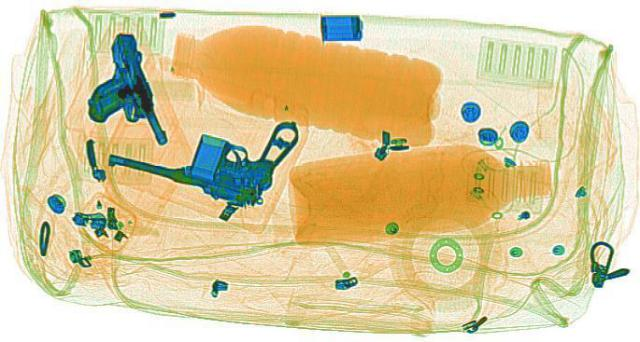Gun: (92, 89, 332, 207), (72, 30, 165, 145)
